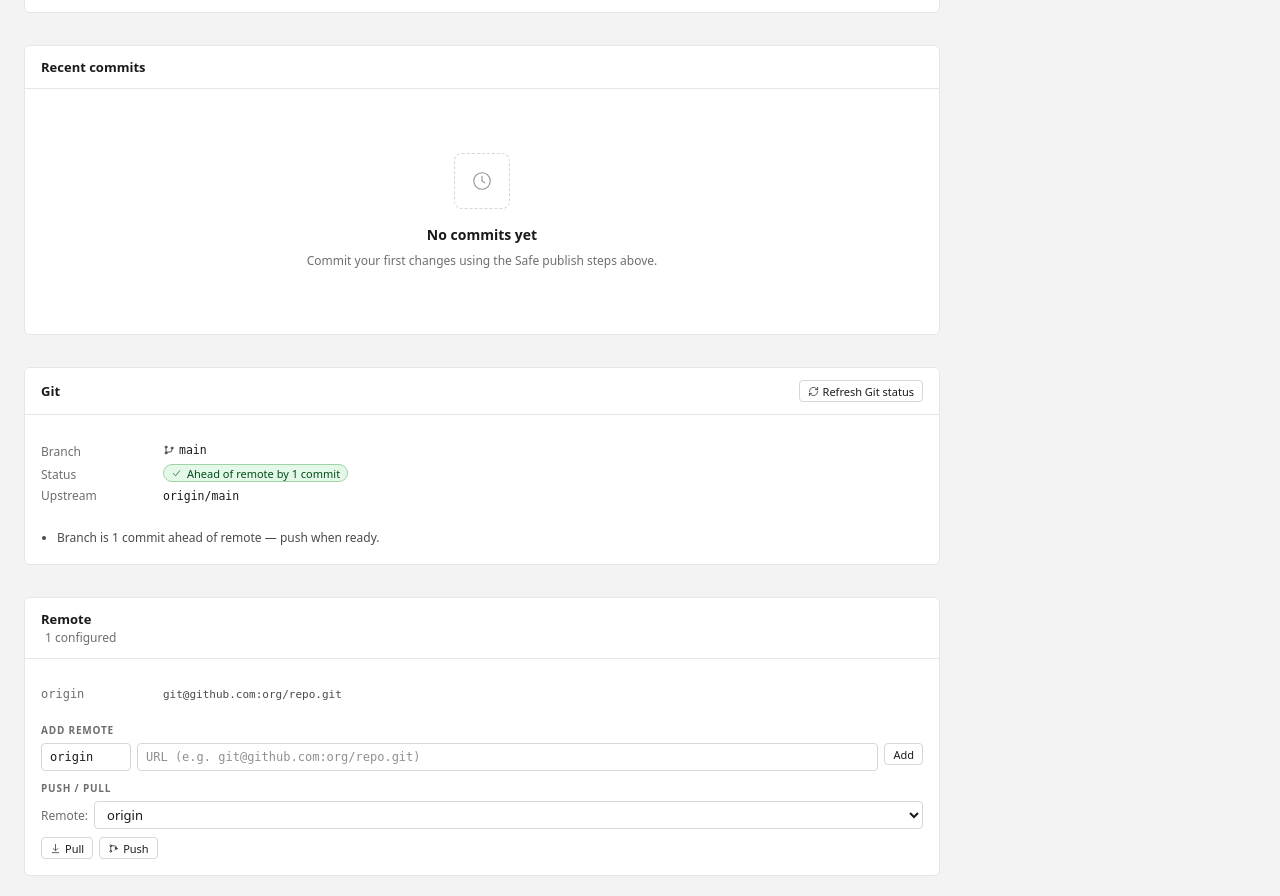
RepositoryPanel — Push/Pull state isolation › starting a push clears a stale pull error
(page scrolled)
Click the button "Pull".
click(67, 848)  # box [41,837,93,859]
(page scrolled)
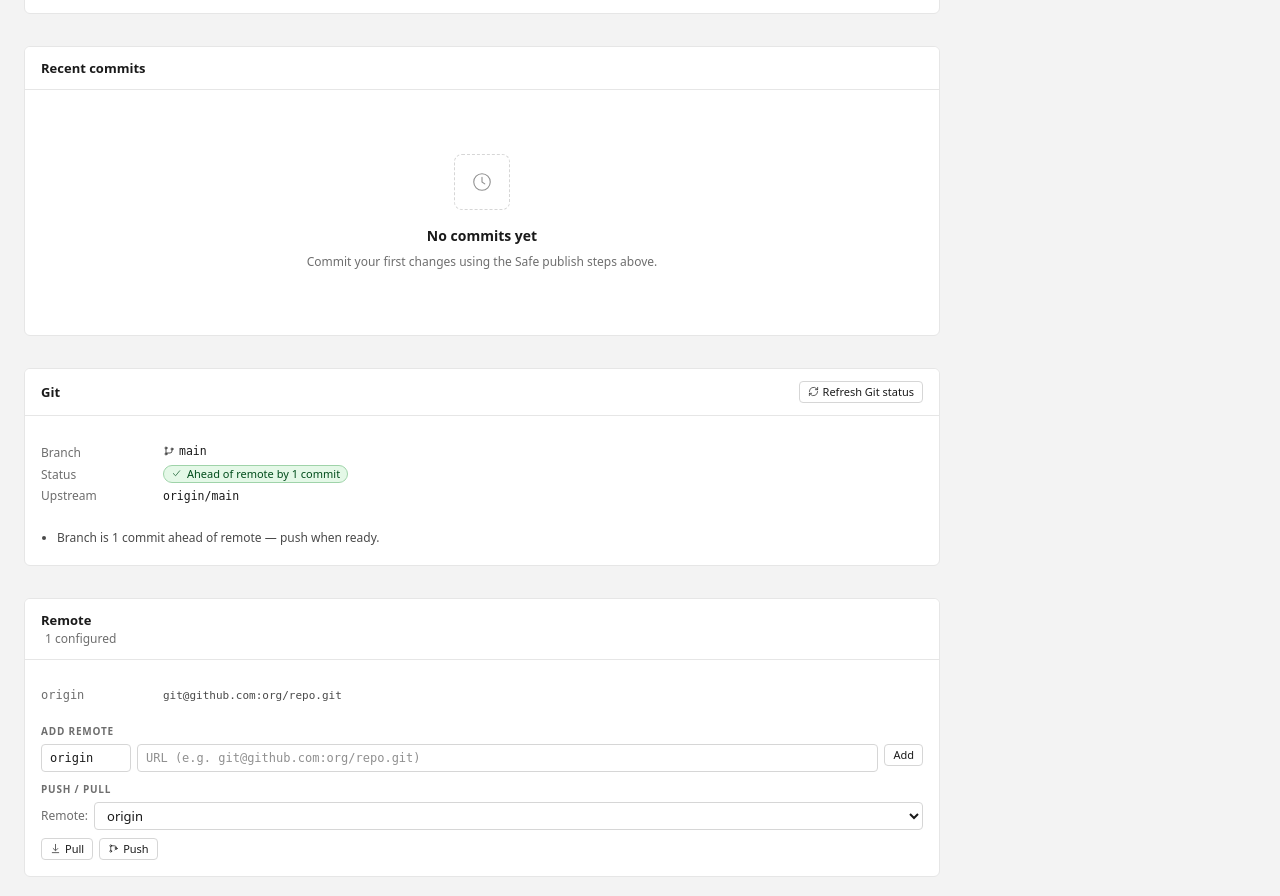
Click the button "Push".
click(128, 849)  # box [99,838,158,860]
(page scrolled)
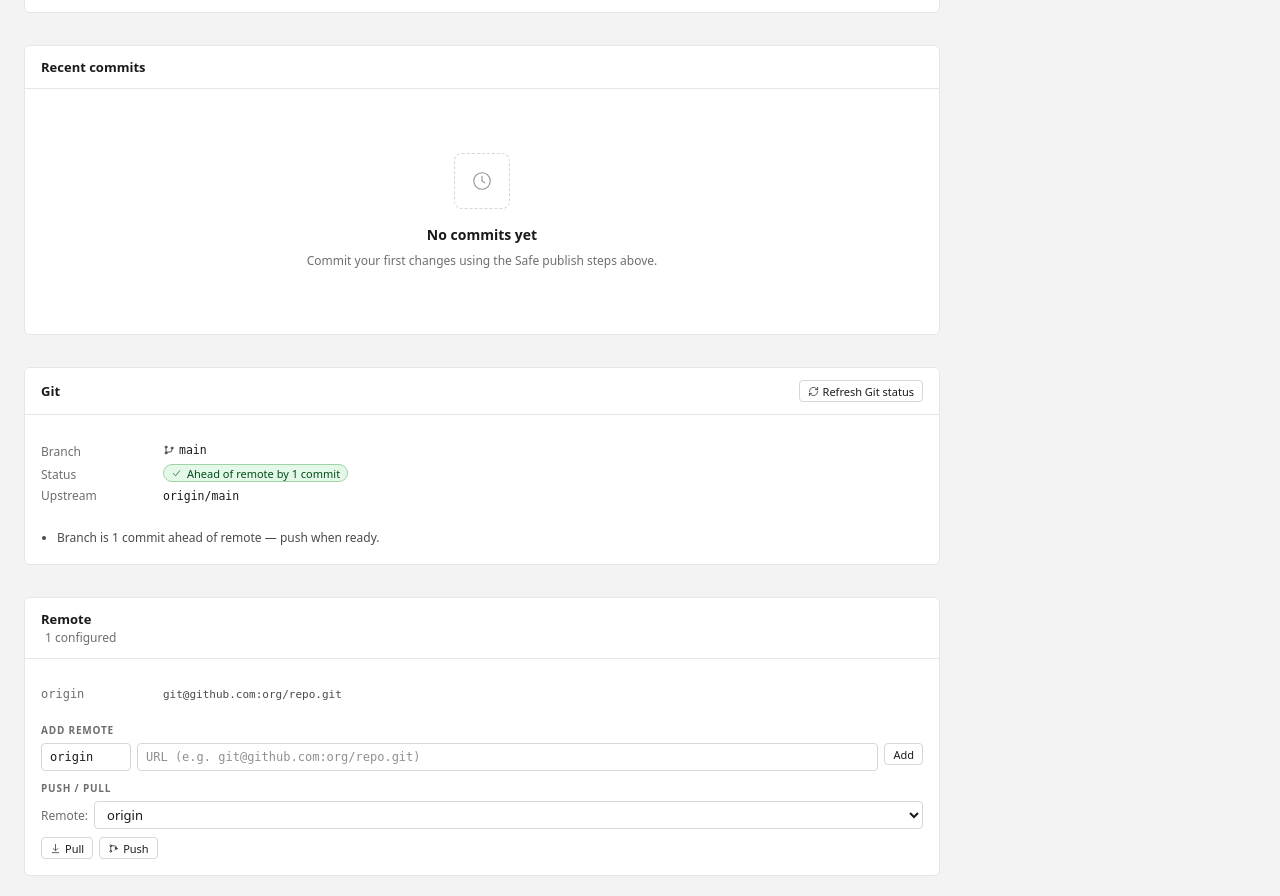
Expected: the text "pull-failed-error" is not shown
